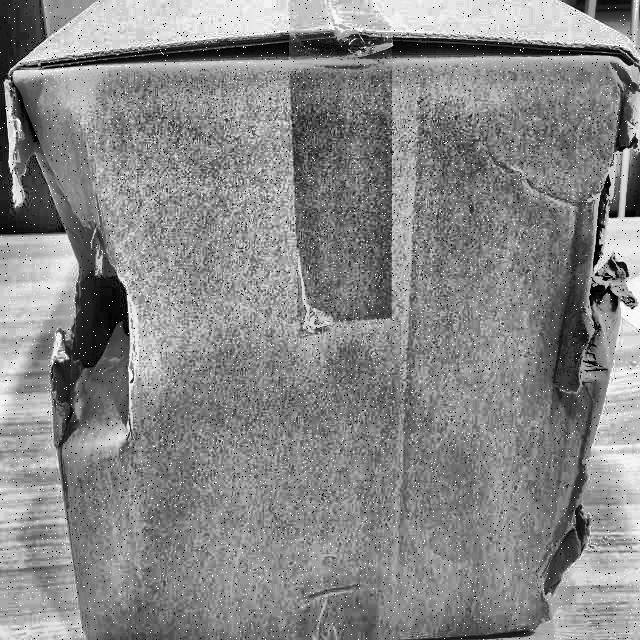box: (1, 0, 639, 639)
hole: (526, 58, 640, 624), (46, 158, 142, 436)
